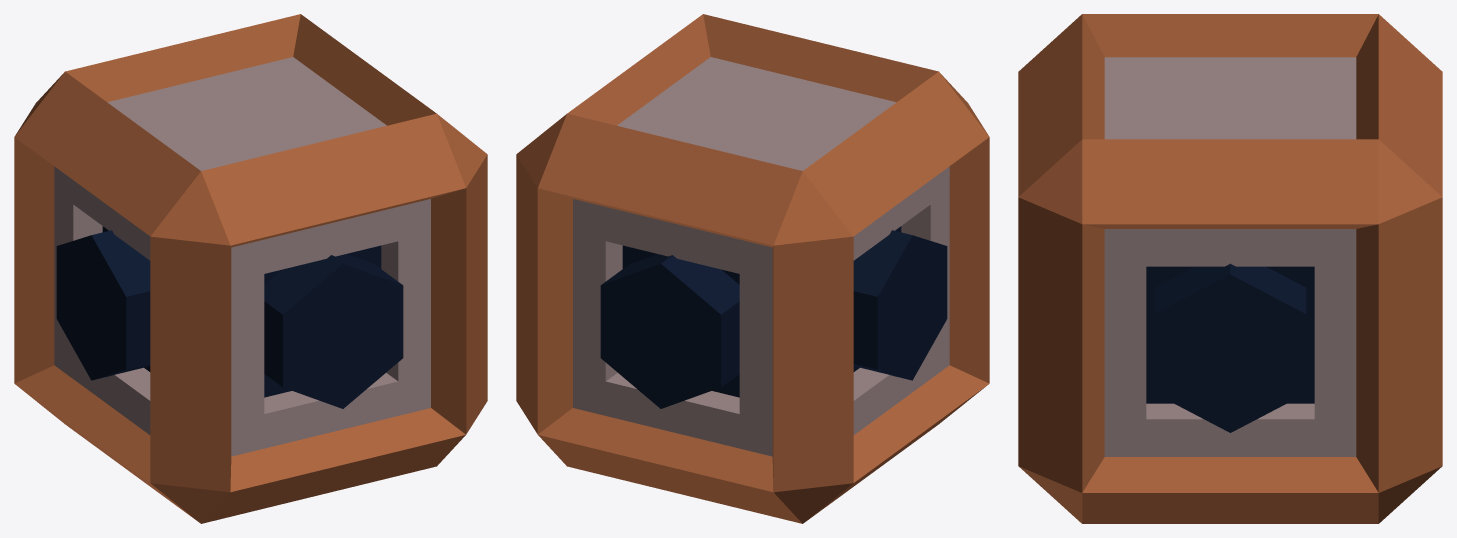
File: Shield.gltf
The picture shows the model from 3 angles, left to right: view 1: azimuth 30°, elevation 25°; view 2: azimuth 150°, elevation 25°; view 3: azimuth 270°, elevation 25°; orthographic projection. The views are drawn at different scales.
Parts seen in each view (by area): view 1: Core.002; view 2: Core.002; view 3: Core.002.
Boxes of the visible parts, <box> form: Core.002: <box>14,14,487,523</box>; Core.002: <box>516,14,989,523</box>; Core.002: <box>1018,14,1442,523</box>.
Size of the model in its own units: 1.06 by 1.06 by 1.06.
